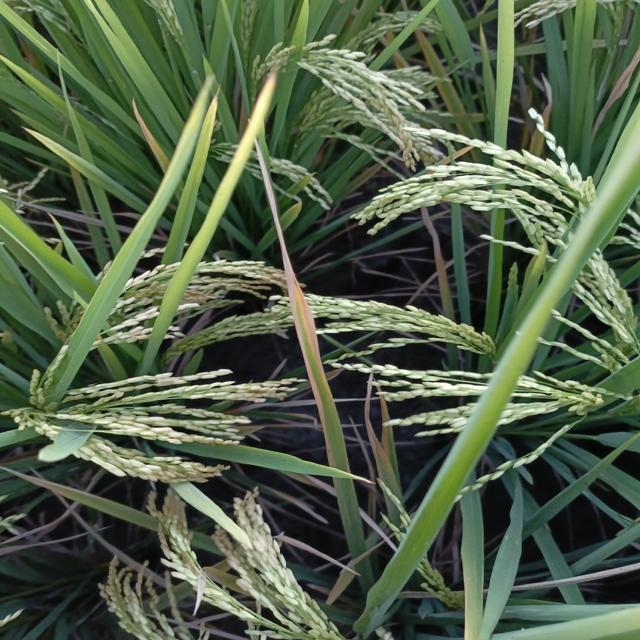Brown spot: (254, 138, 357, 501), (414, 187, 470, 310), (357, 368, 400, 494), (129, 95, 185, 179), (240, 63, 282, 135)
